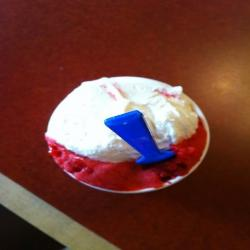icecream: (42, 72, 217, 195)
